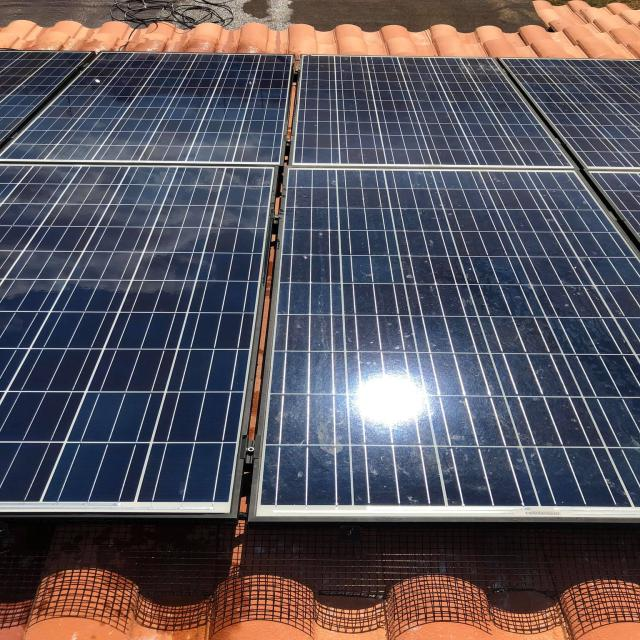clean-solar-panel: (2, 51, 638, 519)
